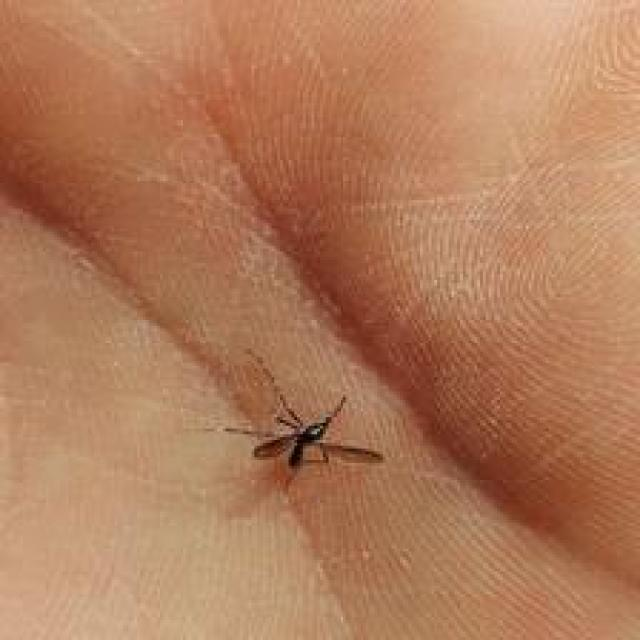Aedes albopictus: (222, 390, 384, 493)
